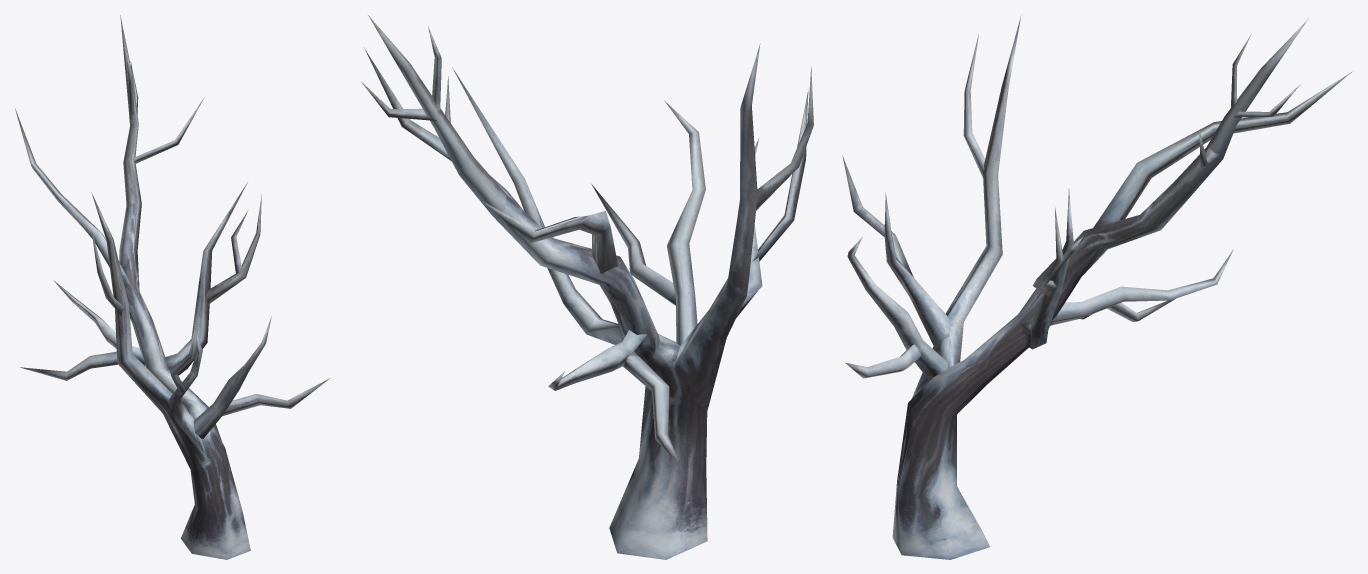
File: SM_Dead_tree_05.fbx
3 renders of one model, left to right at view 1: azimuth 30°, elevation 25°; view 2: azimuth 150°, elevation 25°; view 3: azimuth 270°, elevation 25°, orthographic. The views are drawn at different scales.
Parts seen in each view (by area): view 1: SM_Dead_tree_05; view 2: SM_Dead_tree_05; view 3: SM_Dead_tree_05.
Part boxes in pixels (<box>): SM_Dead_tree_05: <box>15,15,330,559</box>; SM_Dead_tree_05: <box>361,15,813,559</box>; SM_Dead_tree_05: <box>842,15,1351,559</box>.
Bounding box in the file's own units: 4.33 × 8.64 × 7.26.
